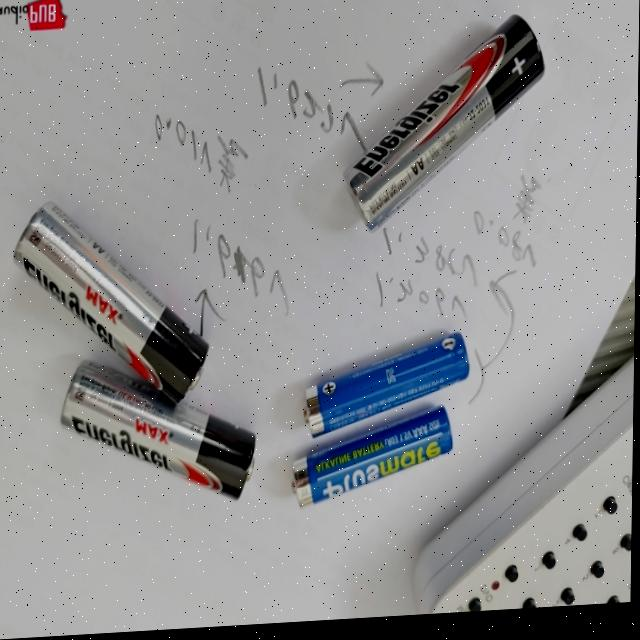battery: (345, 9, 547, 250)
